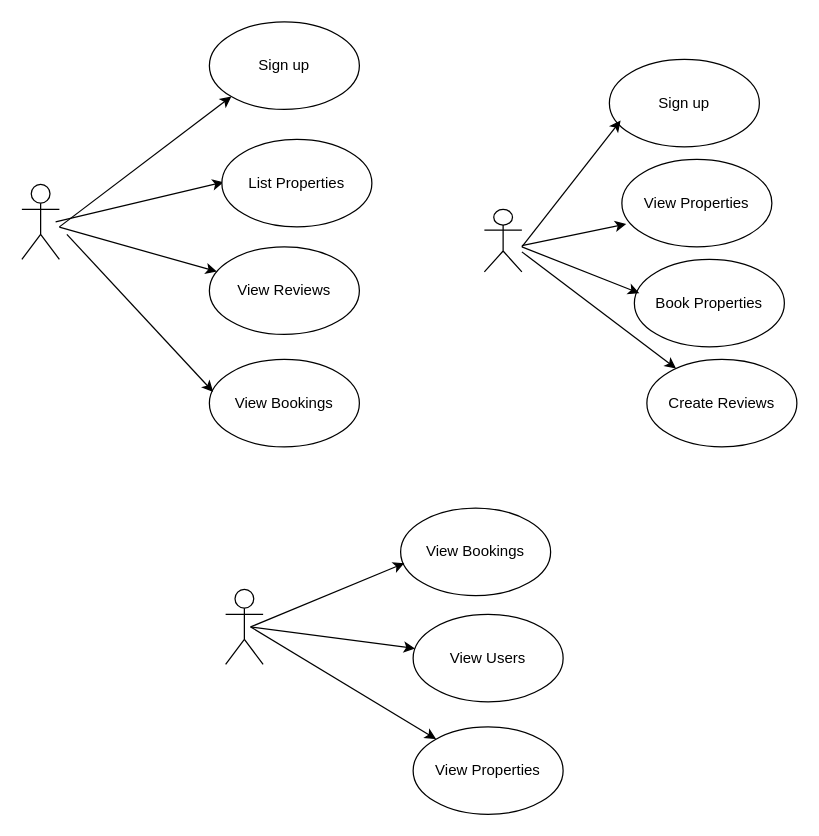
Image size: 819x836. Some labels were removed from this diagram. Each missing label, with the centre of its shape:
"Admin" goes at point (243, 626).
"Guest" goes at point (502, 240).
"Host" goes at point (40, 221).
